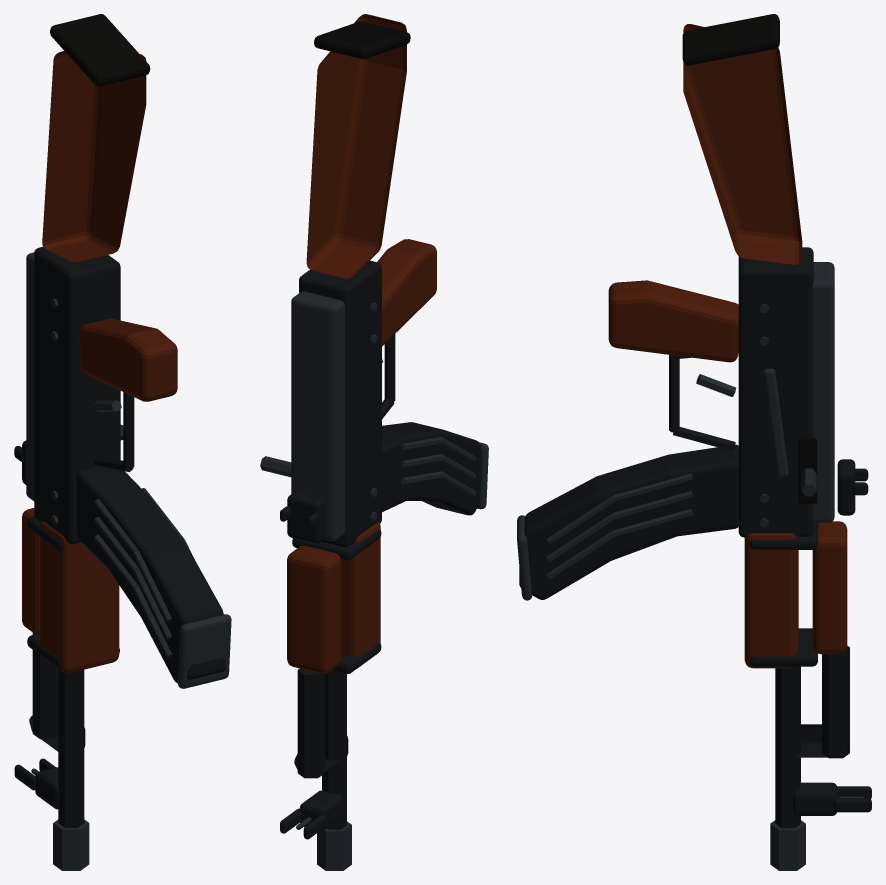
Rendered from AK_Roblox.glb.
3 views of the same model, side by side, from view 1: azimuth 30°, elevation 25°; view 2: azimuth 150°, elevation 25°; view 3: azimuth 270°, elevation 25° (orthographic). The views are drawn at different scales.
Visible parts, largest first — view 1: Body, Magazine; view 2: Body, Magazine; view 3: Body, Magazine.
Part boxes in pixels (x1,y1,x2,y2): Body: (14, 14, 177, 870); Magazine: (76, 466, 231, 688); Body: (260, 14, 436, 870); Magazine: (382, 422, 488, 515); Body: (608, 14, 871, 870); Magazine: (517, 444, 738, 600).
Bounding box in the file's own units: 0.429 × 3.71 × 1.42.
Materials: 1 (1 with a texture image).
